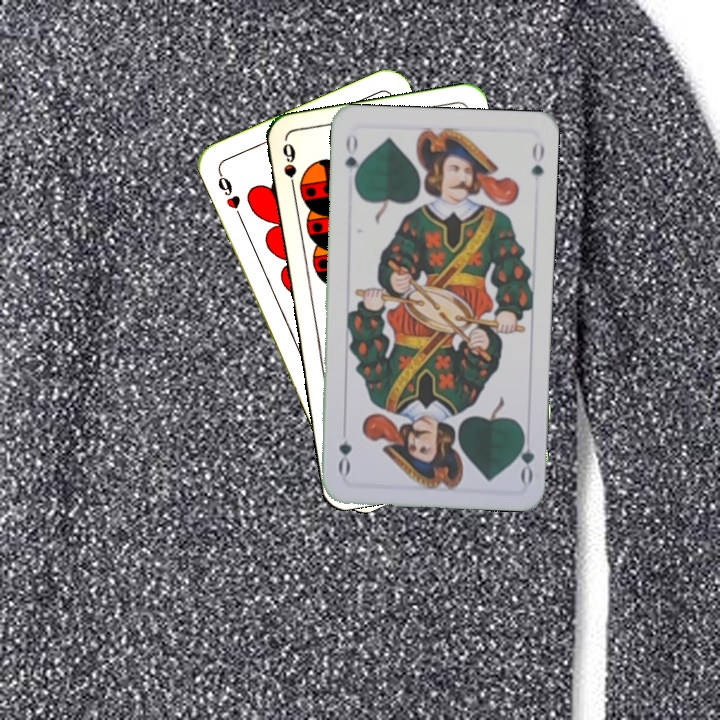GO: (512, 426, 537, 485), (340, 130, 364, 189)
H9: (213, 168, 246, 223)
S9: (278, 139, 299, 198)
